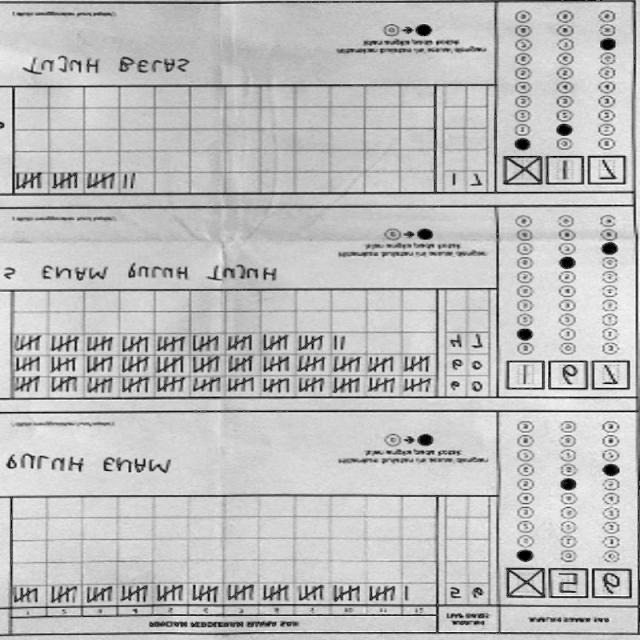Suara: (498, 355, 632, 396), (502, 563, 635, 604), (497, 152, 630, 193)
